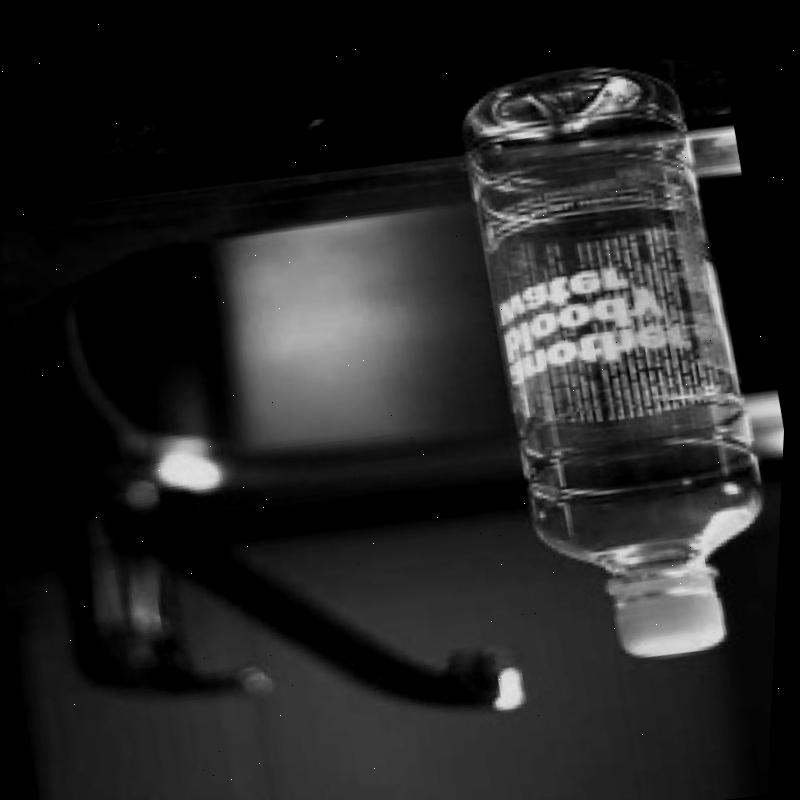botella: (441, 32, 800, 674)
